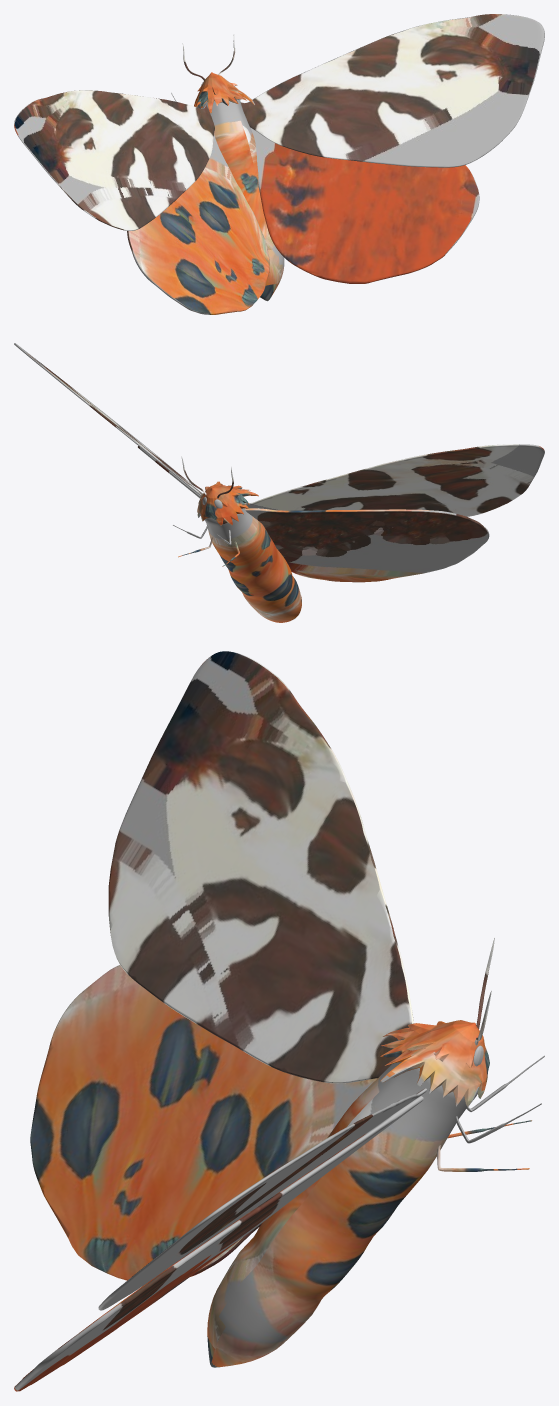
The model's file is last.gltf.
The picture shows the model from 3 angles, top to bottom: view 1: azimuth 30°, elevation 25°; view 2: azimuth 150°, elevation 25°; view 3: azimuth 270°, elevation 25°; orthographic projection. The views are drawn at different scales.
Visible parts, largest first — view 1: mothteafinal_pCylinder7polySurface22; view 2: mothteafinal_pCylinder7polySurface22; view 3: mothteafinal_pCylinder7polySurface22.
Part boxes in pixels (box(x1,y1,x2,y2)): mothteafinal_pCylinder7polySurface22: box(14, 14, 544, 314); mothteafinal_pCylinder7polySurface22: box(14, 343, 544, 622); mothteafinal_pCylinder7polySurface22: box(14, 651, 544, 1391).
Size of the model in its own units: 75.3 by 32.89 by 33.03.
Materials: 1 (1 with a texture image).
